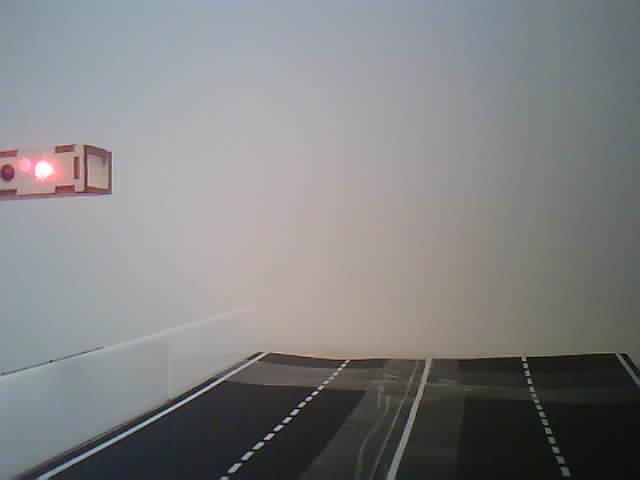red: (0, 139, 123, 213)
